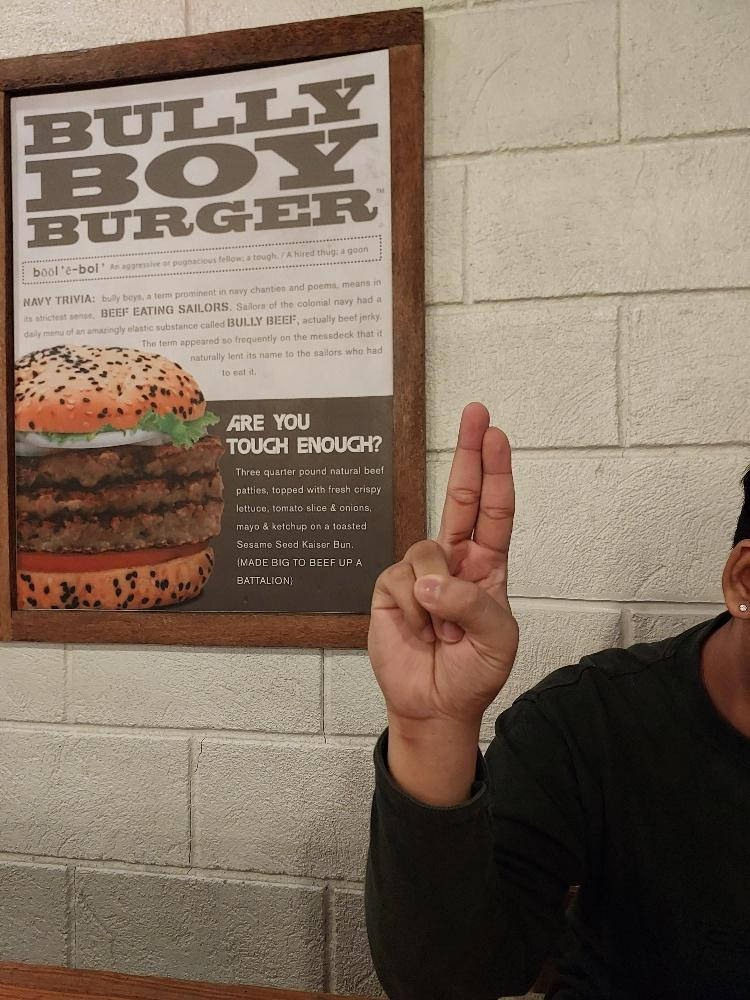u: (365, 400, 521, 720)
